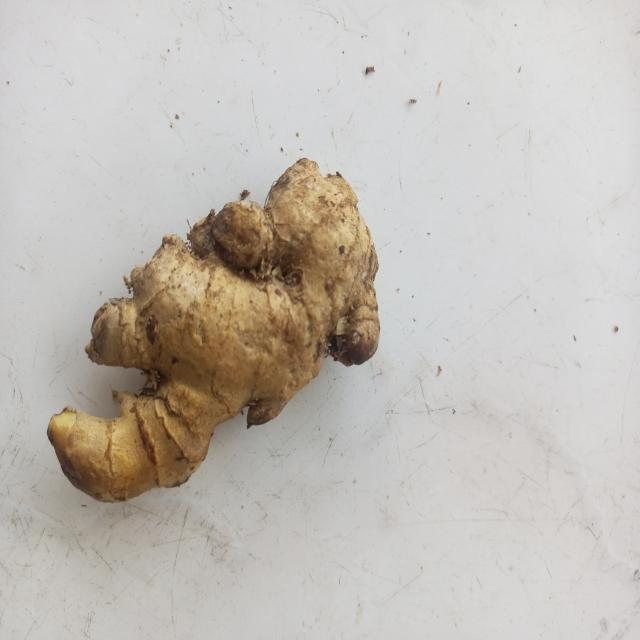ginger: (55, 165, 378, 493)
